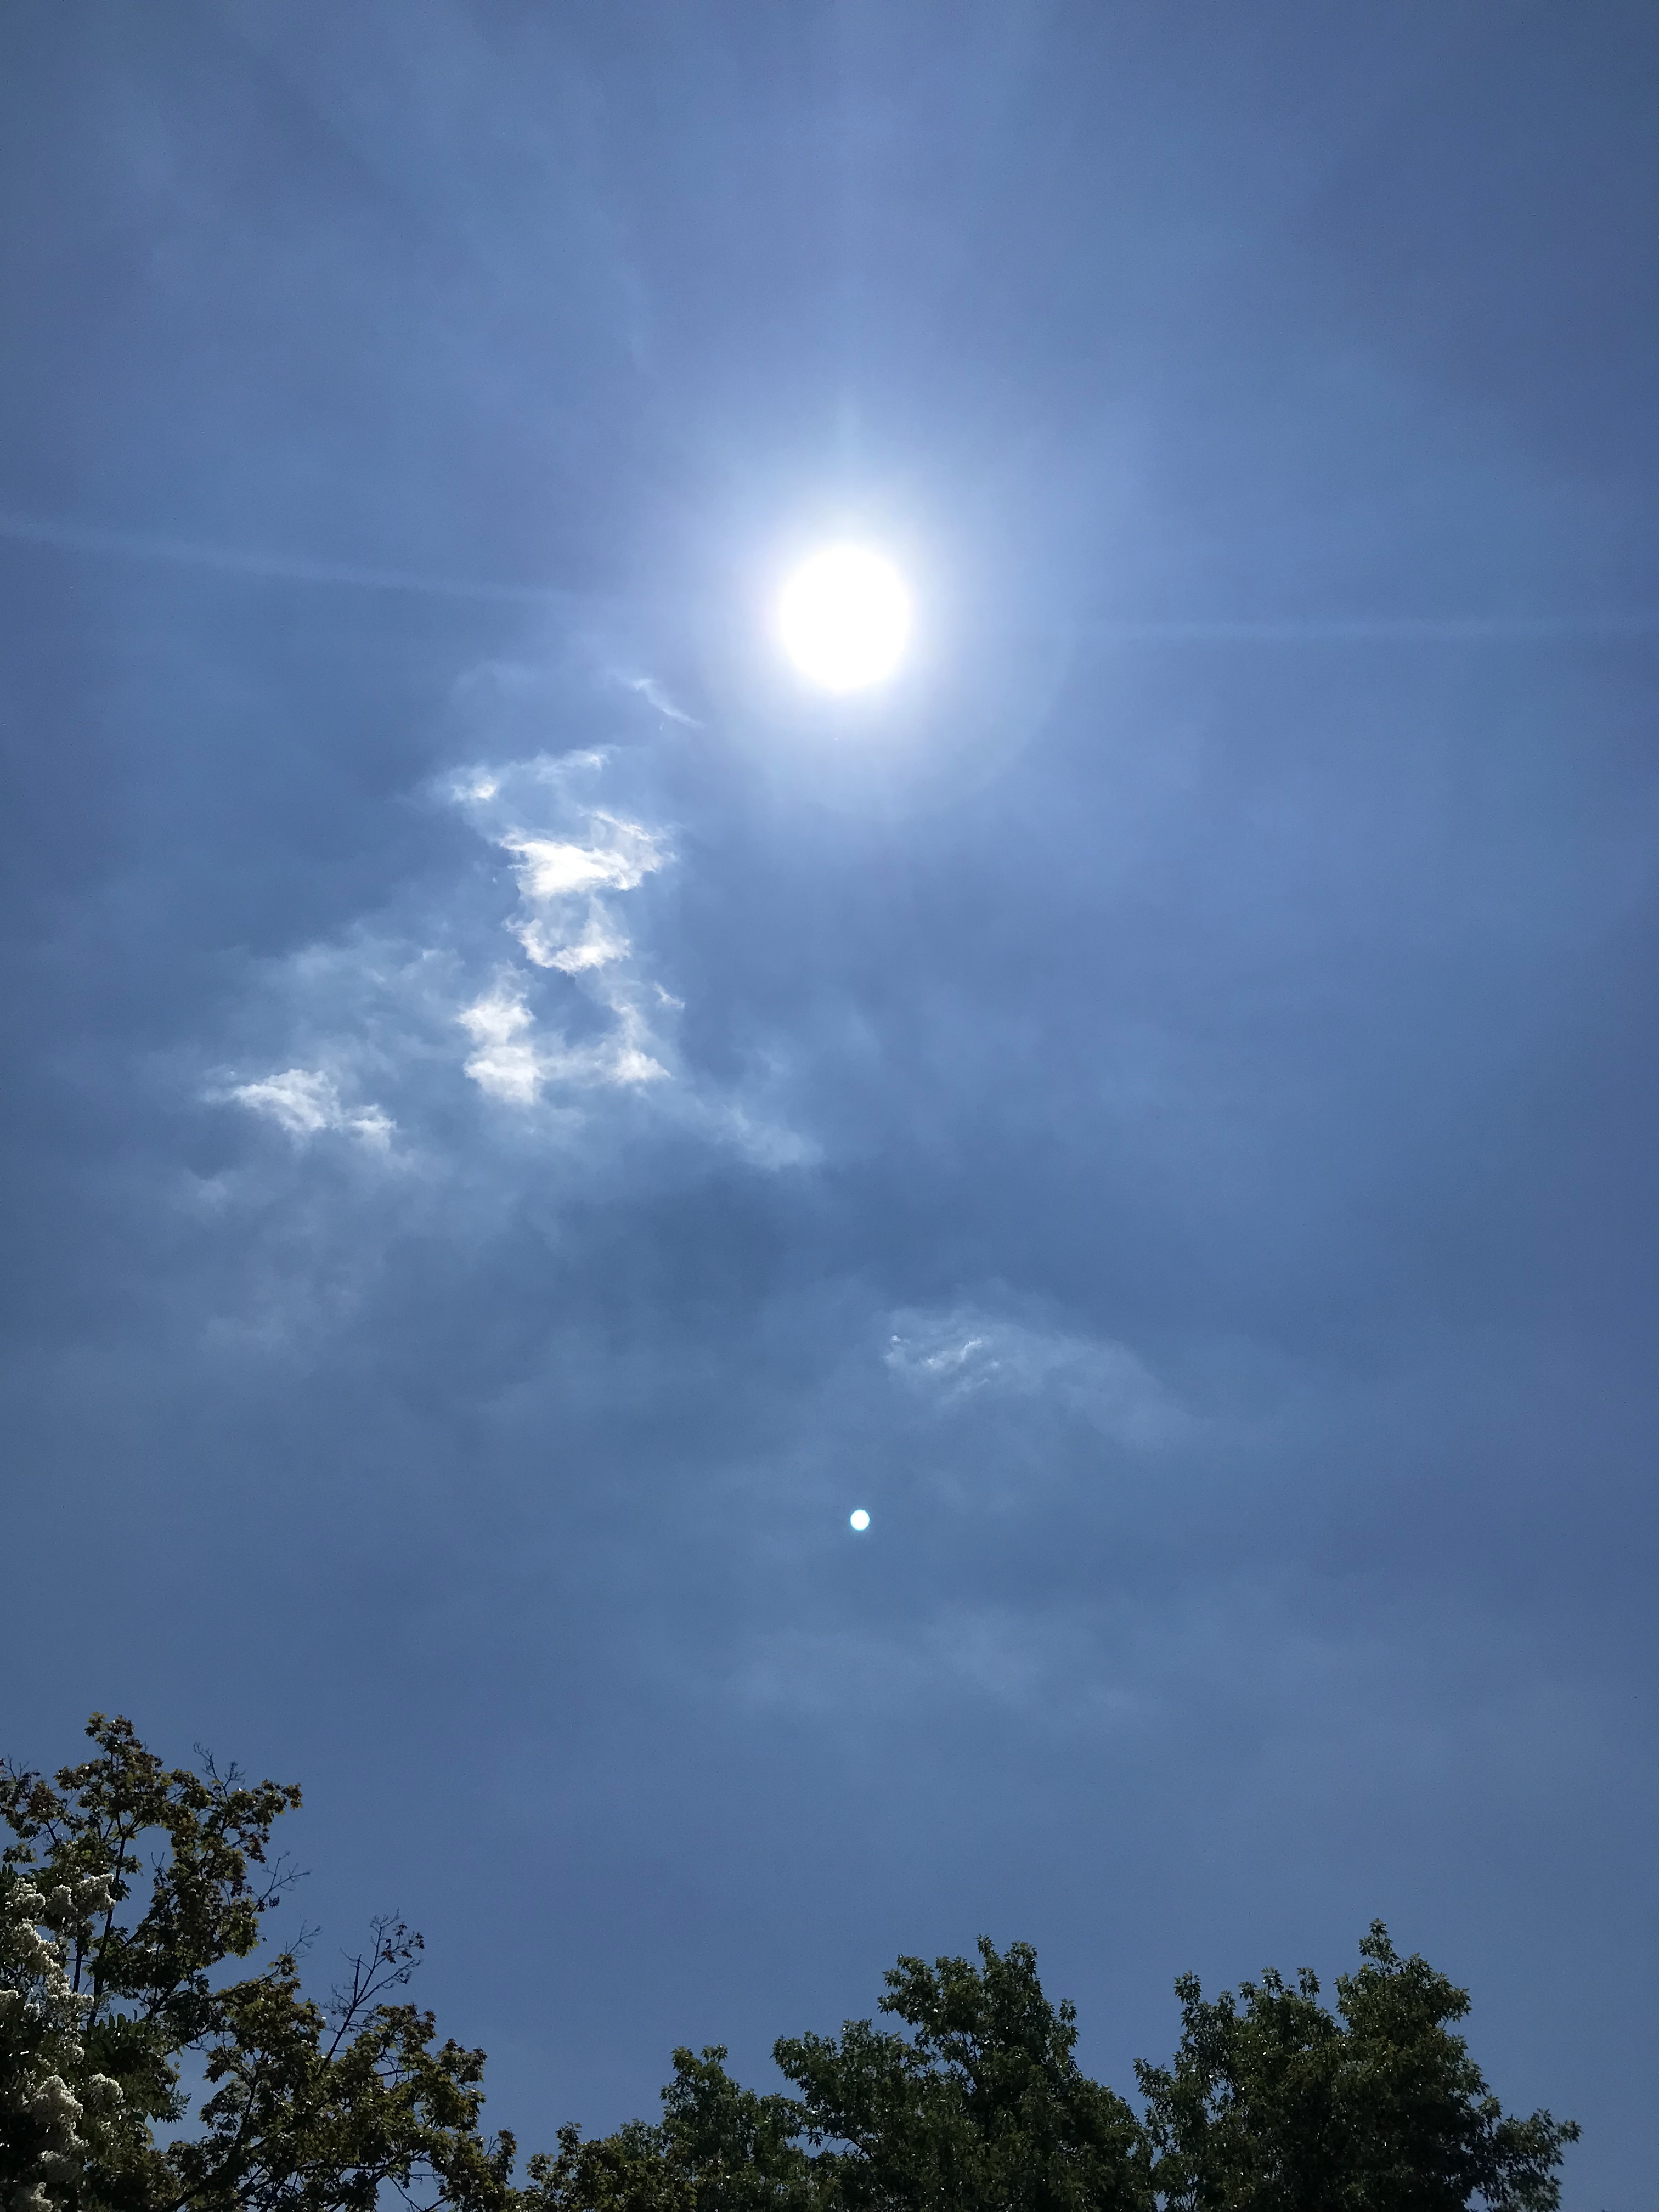flare: (847, 1507, 873, 1533)
